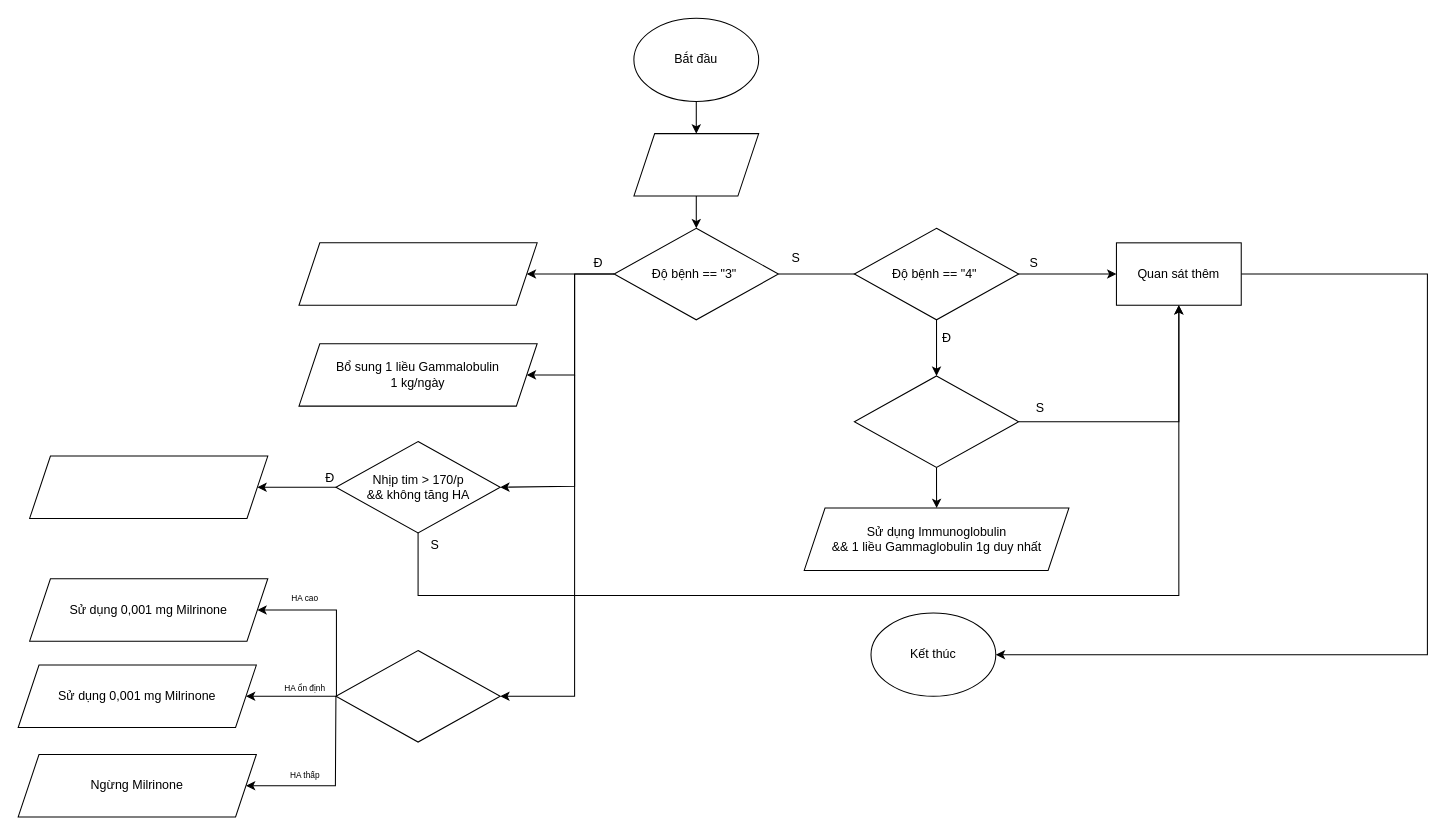
Image size: 1454x835. Some labels were removed from this diagram. Each missing label, with the centre of its shape:
Kiểm tra chỉ số HA và tuổi bệnh nhân: the point at 417,695
Lấy thông tin bệnh nhân: the point at 696,164
Sử dụng 0,005 mg Dobutamin và tăng dần 0,001-0.002 mỗi 15p: the point at 148,486
Sử dụng Phenobarbital 10-20 mg: the point at 417,273
Đã hồi sức && huyết áp >= 50mmHg: the point at 936,421
